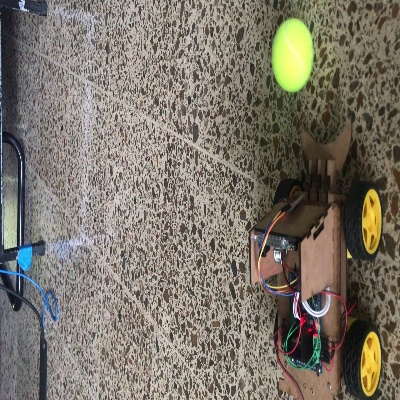Ball: (270, 18, 314, 92)
Robot: (247, 119, 383, 397)
